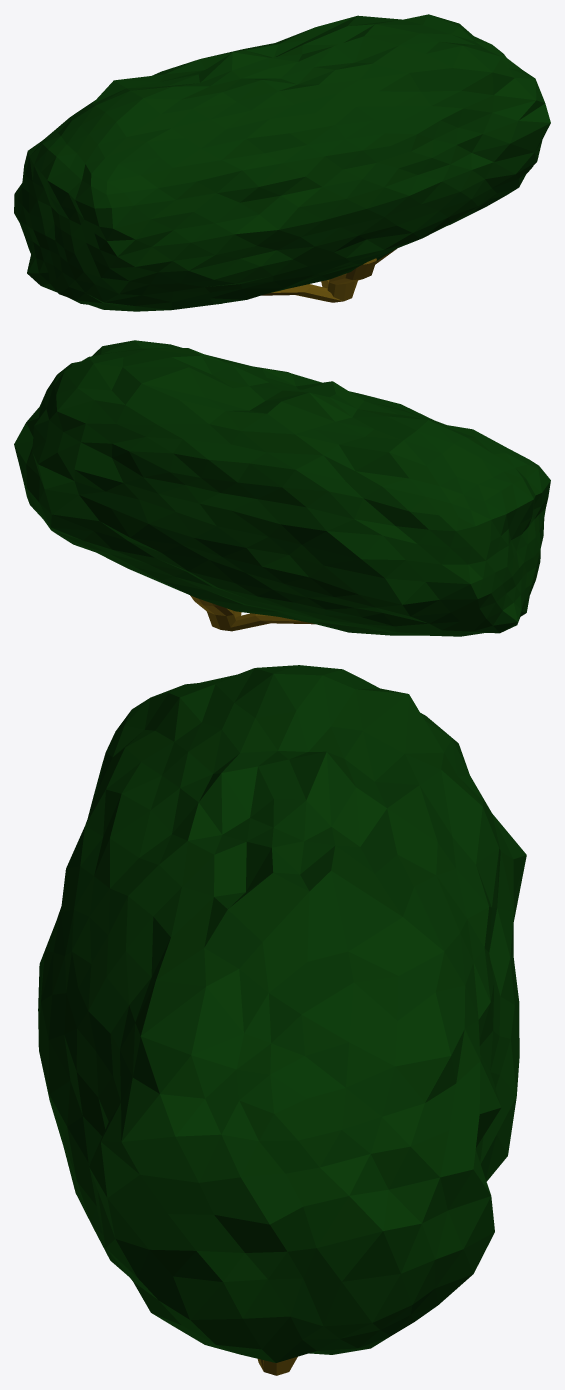
The model's file is bushA.gltf.
3 renders of one model, top to bottom at view 1: azimuth 30°, elevation 25°; view 2: azimuth 150°, elevation 25°; view 3: azimuth 270°, elevation 25°, orthographic. The views are drawn at different scales.
Visible parts, largest first — view 1: Bush, Cylinder.003, Cylinder.001; view 2: Bush, Cylinder.001, Cylinder.002; view 3: Bush.
Part boxes in pixels (x1,y1,x2,y2): Bush: [14, 14, 550, 311]; Cylinder.003: [327, 258, 376, 301]; Cylinder.001: [261, 284, 343, 302]; Bush: [14, 340, 550, 636]; Cylinder.001: [221, 613, 315, 631]; Cylinder.002: [190, 595, 235, 629]; Bush: [38, 665, 526, 1362].
Bounding box in the file's own units: 5.08 × 2.61 × 2.23.
